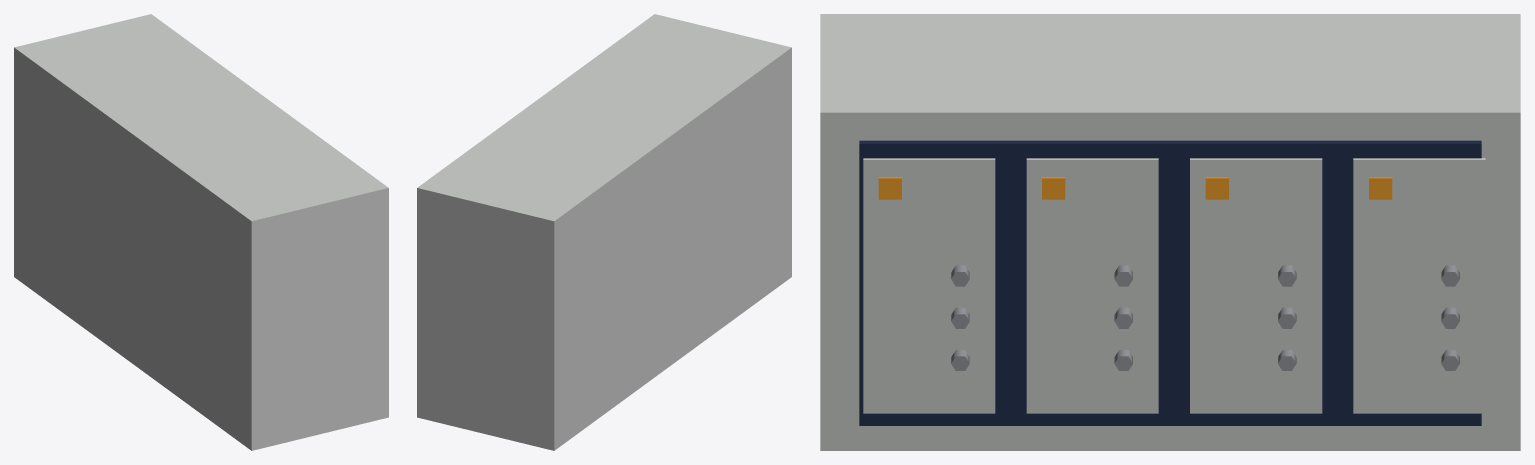
File: s200_regulator.obj
3 views of the same model, side by side, from view 1: azimuth 30°, elevation 25°; view 2: azimuth 150°, elevation 25°; view 3: azimuth 270°, elevation 25° (orthographic). The views are drawn at different scales.
Parts seen in each view (by area): view 1: s200_regulator; view 2: s200_regulator; view 3: s200_regulator.
Part boxes in pixels (<box>): s200_regulator: <box>14,14,388,450</box>; s200_regulator: <box>417,14,791,450</box>; s200_regulator: <box>820,14,1520,450</box>.
Bounding box in the file's own units: 0.335 × 0.48 × 0.9.
